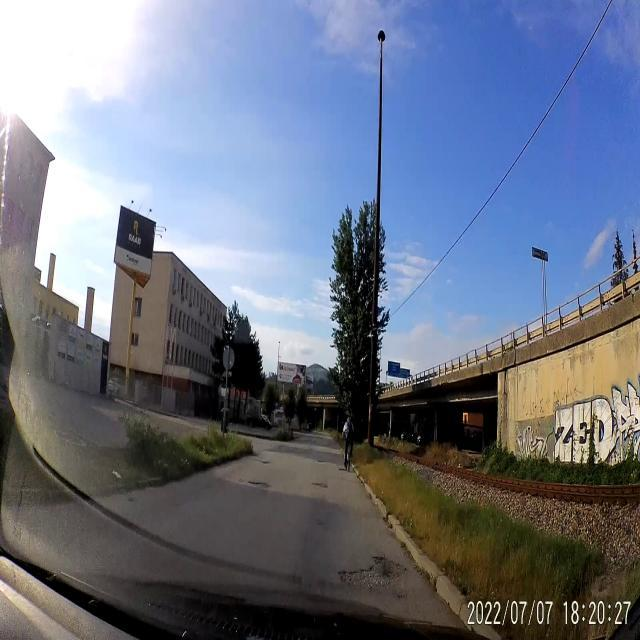Pothole: (336, 547, 410, 601), (240, 474, 270, 494), (310, 474, 330, 494), (258, 456, 272, 464), (316, 458, 326, 464)
